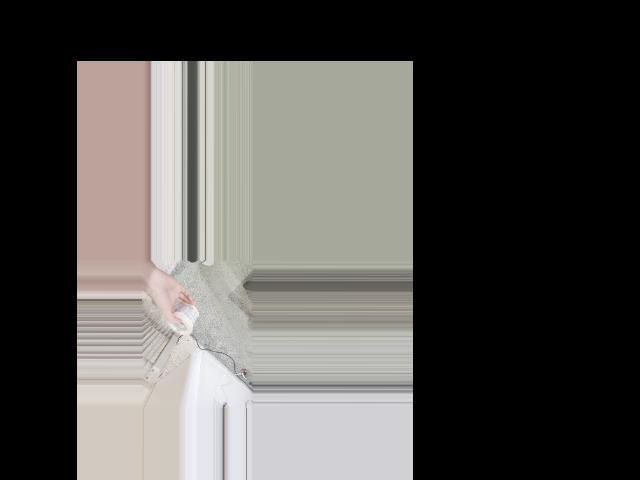cotage: (169, 301, 198, 334)
